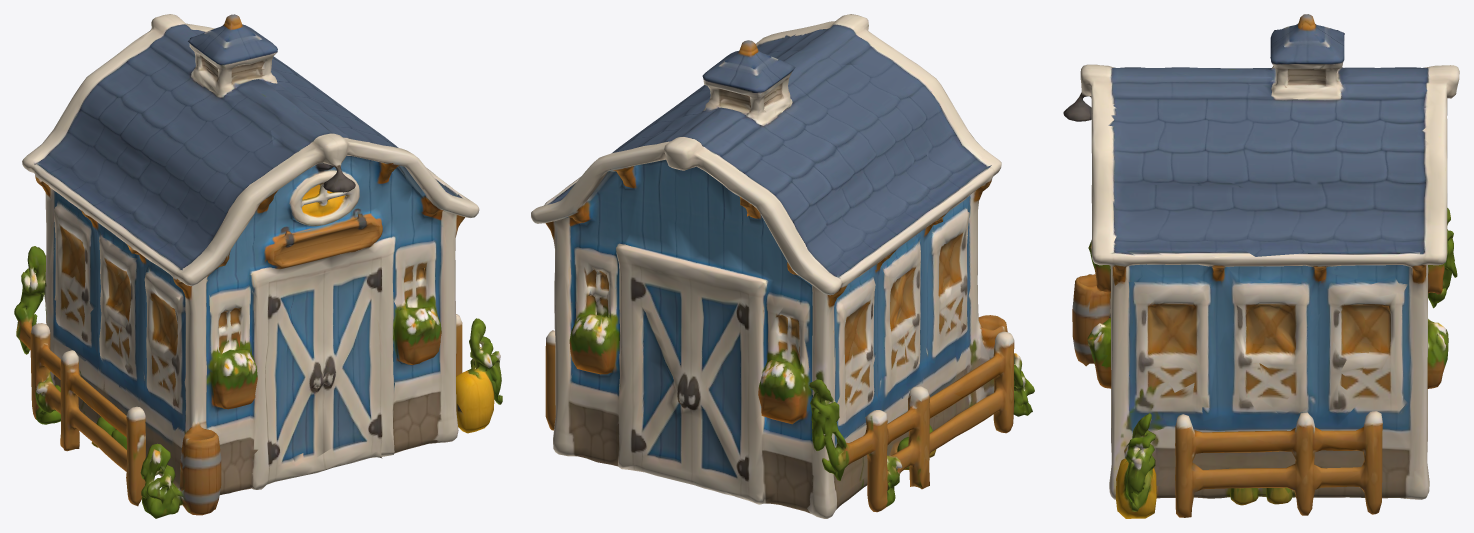
3 renders of one model, left to right at view 1: azimuth 30°, elevation 25°; view 2: azimuth 150°, elevation 25°; view 3: azimuth 270°, elevation 25°, orthographic. The views are drawn at different scales.
Visible parts, largest first — view 1: tripo_node_3dd3f782-8a6c-4efa-84d8-e958c551ce31; view 2: tripo_node_3dd3f782-8a6c-4efa-84d8-e958c551ce31; view 3: tripo_node_3dd3f782-8a6c-4efa-84d8-e958c551ce31.
Boxes of the visible parts, <box> form: tripo_node_3dd3f782-8a6c-4efa-84d8-e958c551ce31: <box>14,14,502,518</box>; tripo_node_3dd3f782-8a6c-4efa-84d8-e958c551ce31: <box>531,14,1034,518</box>; tripo_node_3dd3f782-8a6c-4efa-84d8-e958c551ce31: <box>1063,14,1459,518</box>.
Size of the model in its own units: 3.57 by 3.6 by 3.09.
1 material, 1 textured.
